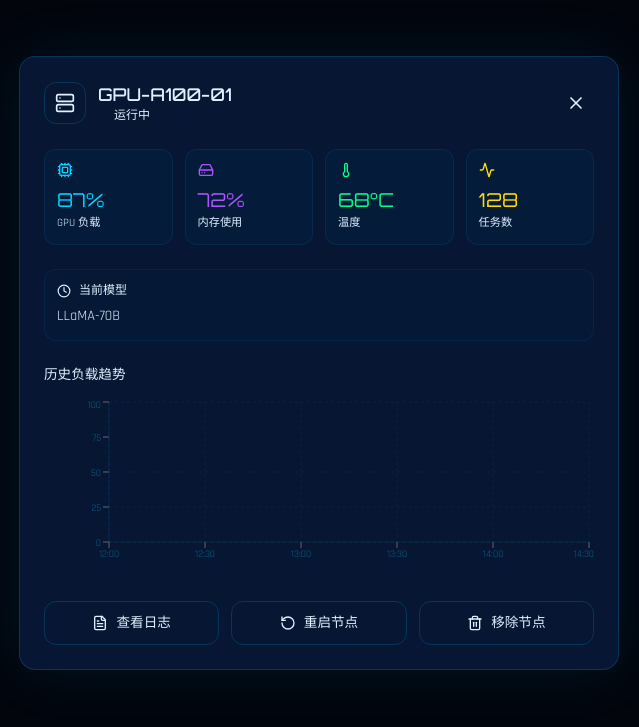
Scenario: NodeDetailModal › 查看日志交互 › 日志面板应包含模拟日志条目
Click the button with test id "view-logs-btn" at point(132, 623), box [44,601,219,645]
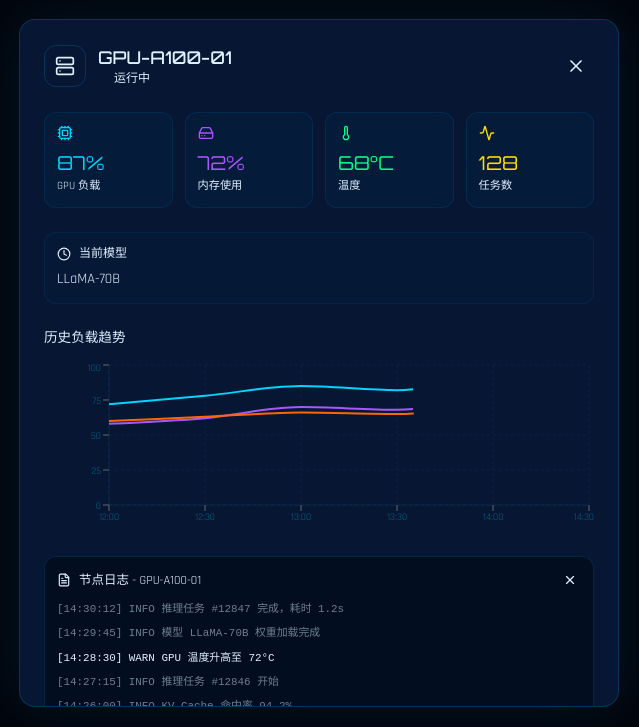
Result: the text "[14:30:12] INFO 推理任务 #12847 完成，耗时 1.2s" is shown at [57,603,344,615]
